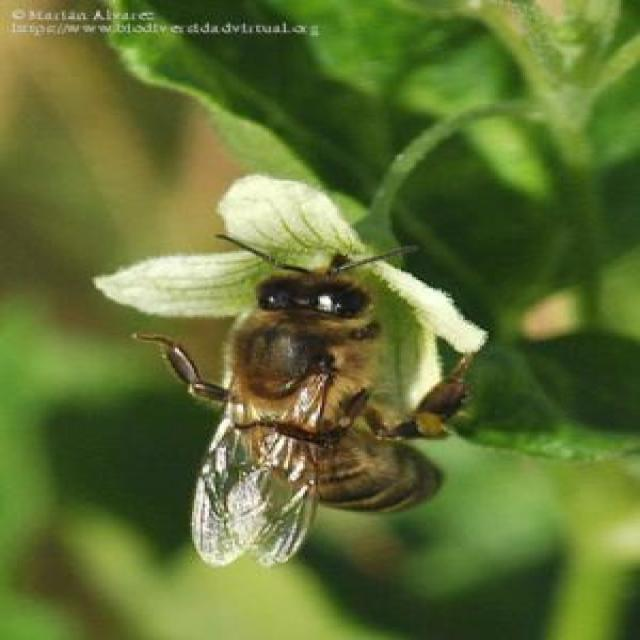antennae: (215, 231, 322, 274), (342, 245, 422, 273)
body: (216, 266, 450, 517)
insect: (128, 232, 477, 572)
legs: (128, 329, 240, 408), (366, 356, 472, 438), (160, 343, 236, 414)
mouthpart: (293, 252, 354, 281)
wings: (229, 366, 337, 569), (188, 376, 263, 564)
